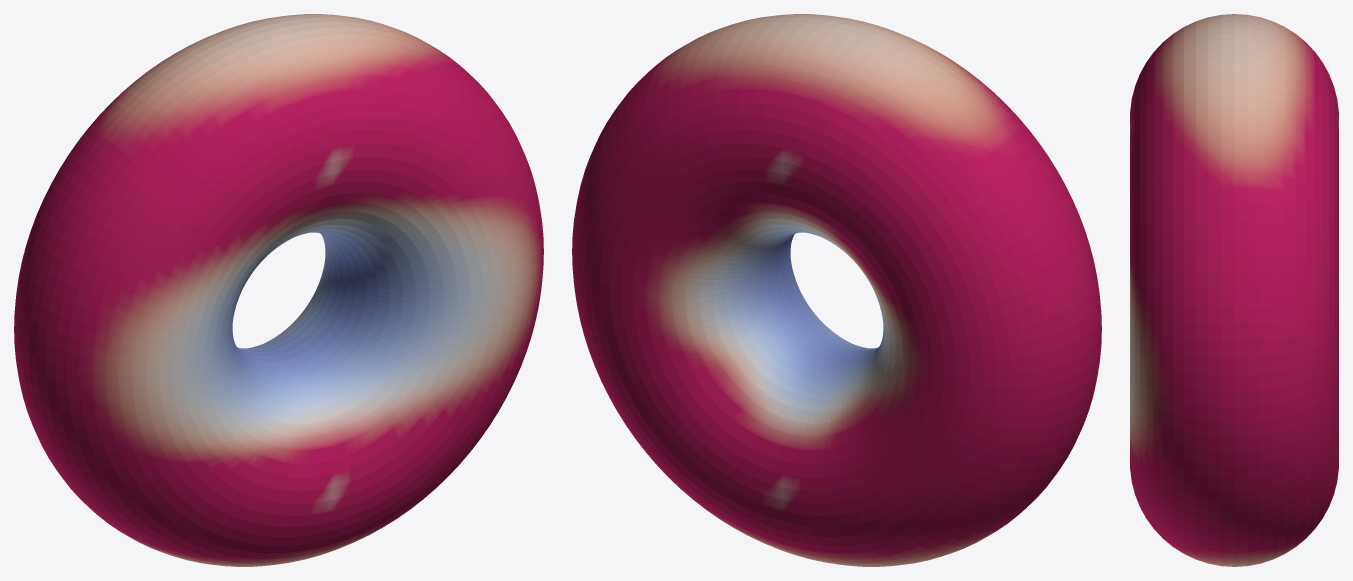
The picture shows the model from 3 angles, left to right: view 1: azimuth 30°, elevation 25°; view 2: azimuth 150°, elevation 25°; view 3: azimuth 270°, elevation 25°; orthographic projection. The views are drawn at different scales.
Visible parts, largest first — view 1: world; view 2: world; view 3: world.
Boxes of the visible parts, x1,y1,x2,y2 form: world: (14,14,543,566); world: (572,14,1101,566); world: (1130,14,1338,566).
Size of the model in its own units: 25.73 by 25.73 by 9.71.
